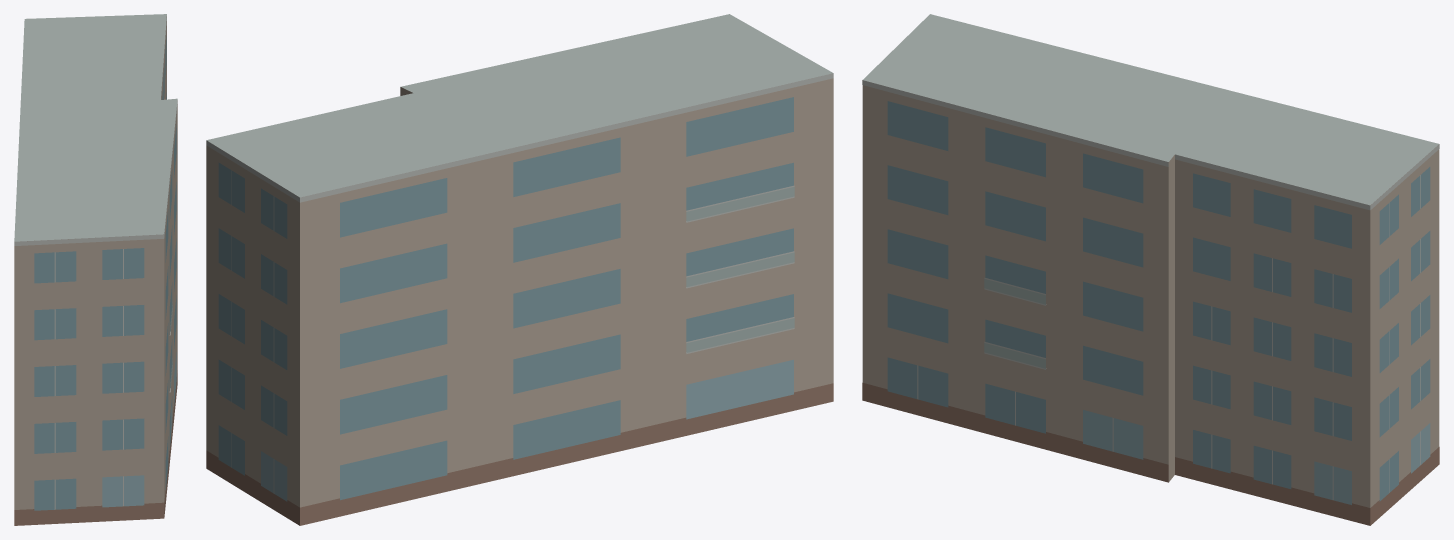
The model's file is survey-upis-32777149.glb.
The picture shows the model from 3 angles, left to right: view 1: azimuth 30°, elevation 25°; view 2: azimuth 150°, elevation 25°; view 3: azimuth 270°, elevation 25°; orthographic projection. The views are drawn at different scales.
Visible parts, largest first — view 1: survey-upis-32777149.tmp; view 2: survey-upis-32777149.tmp; view 3: survey-upis-32777149.tmp.
Boxes of the visible parts, x1,y1,x2,y2 form: survey-upis-32777149.tmp: (14,14,177,525); survey-upis-32777149.tmp: (206,14,833,525); survey-upis-32777149.tmp: (862,14,1439,525).
Bounding box in the file's own units: 20.19 × 15.75 × 25.71.
